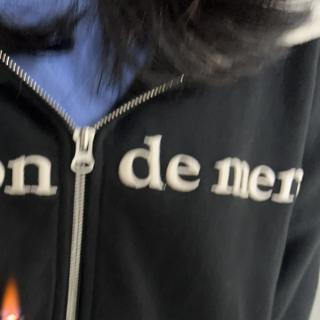fire: (0, 273, 21, 320)
